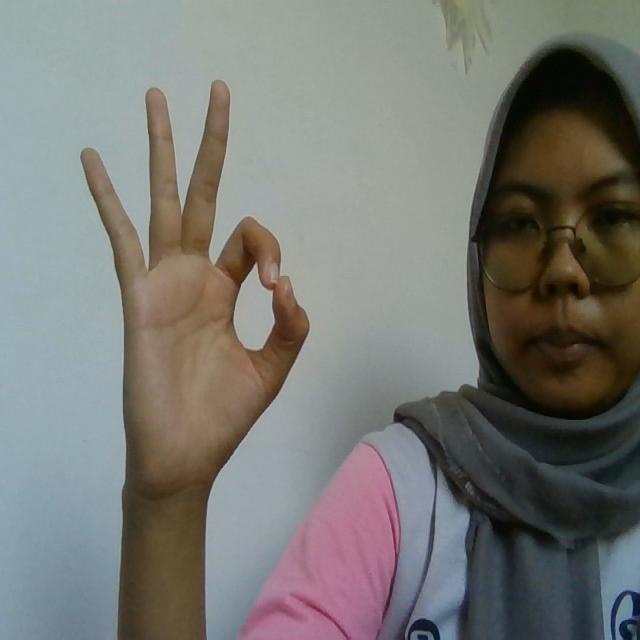F: (81, 77, 313, 486)
